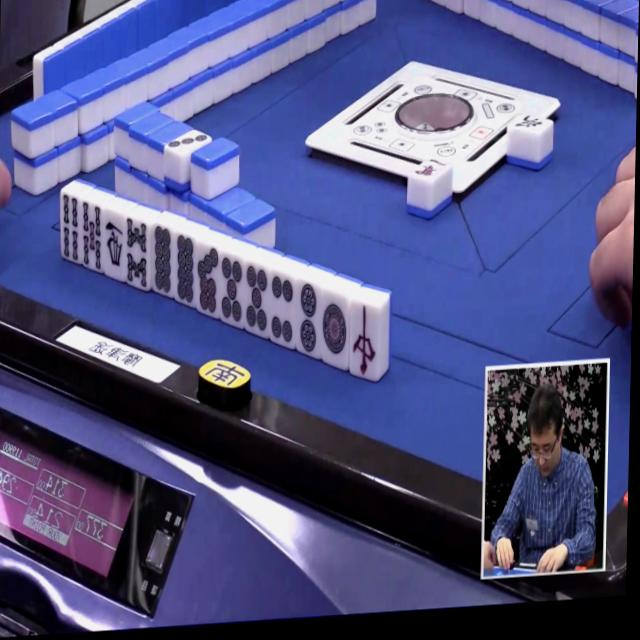1C: (415, 156, 446, 181)
1D: (317, 291, 353, 370)
2D: (290, 280, 325, 363)
3D: (167, 129, 208, 154)
4B: (57, 188, 82, 267)
4D: (266, 269, 299, 350)
5B: (77, 201, 107, 278)
5D: (238, 262, 272, 340), (215, 253, 249, 330)
7D: (192, 241, 226, 318)
8B: (121, 216, 154, 295)
8D: (147, 222, 179, 300), (168, 231, 199, 308)
NW: (515, 112, 543, 138)
RD: (345, 300, 384, 382)
WW: (101, 212, 128, 283)
